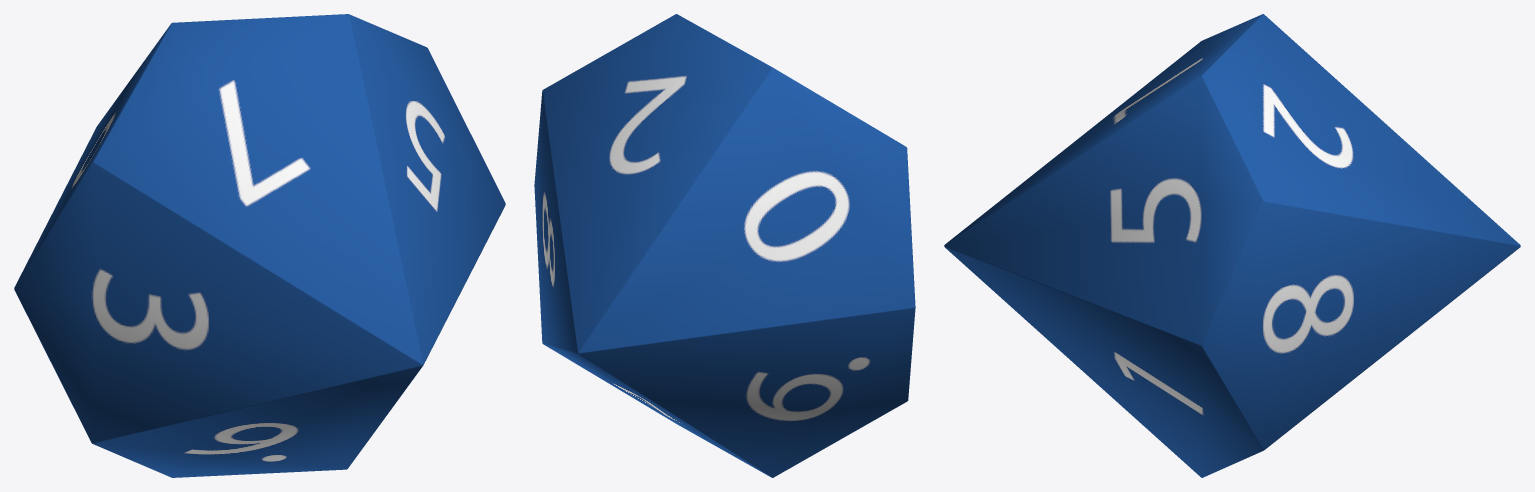
Rendered from tenFacesDice.glb.
The picture shows the model from 3 angles, left to right: view 1: azimuth 30°, elevation 25°; view 2: azimuth 150°, elevation 25°; view 3: azimuth 270°, elevation 25°; orthographic projection. The views are drawn at different scales.
Visible parts, largest first — view 1: d10; view 2: d10; view 3: d10.
Part boxes in pixels (x1,y1,x2,y2): d10: (14,14,505,477); d10: (534,14,915,477); d10: (944,14,1520,477).
Size of the model in its own units: 9.42 by 8.96 by 11.61.
1 material, 1 textured.
